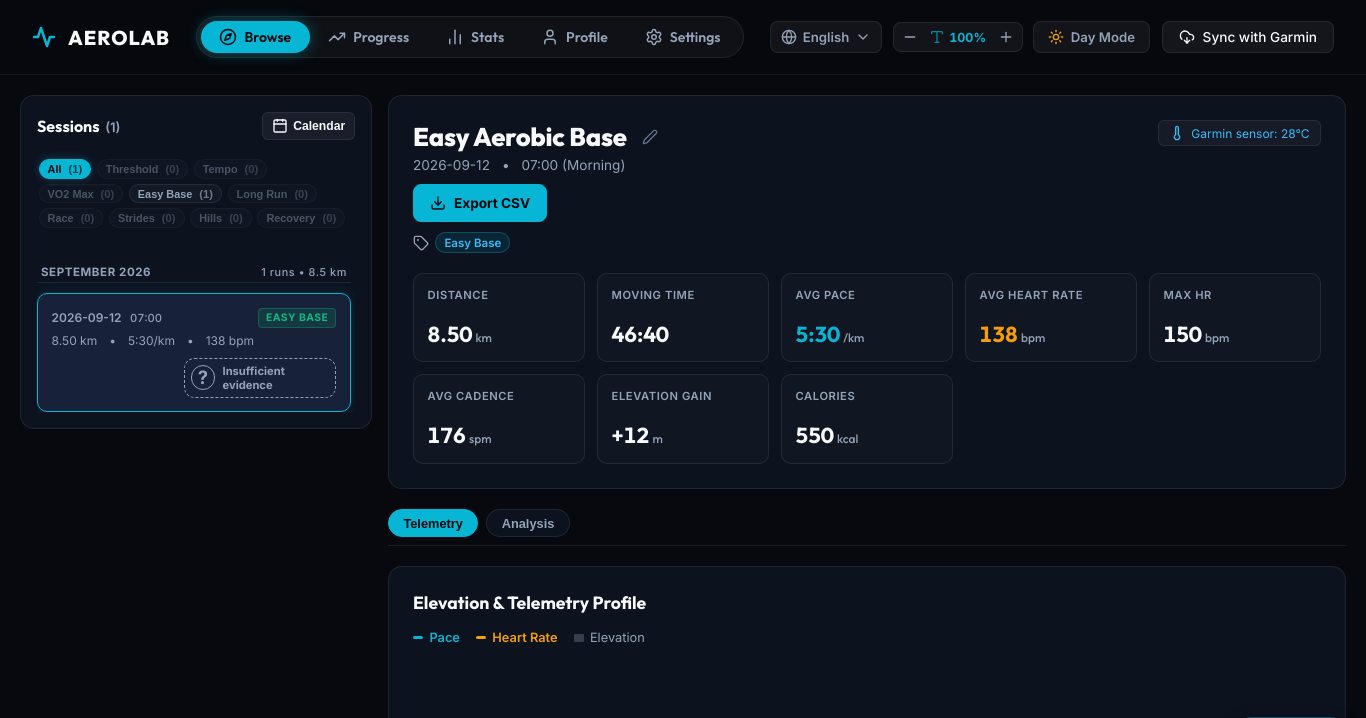
AEROLAB App Full Integration Tests › boots App, fetches activities, and renders main views via navbar tabs
expect the heading "Easy Aerobic Base" is shown: met, box [413,120,627,153]
Click the button with id "tab-progress-btn". click: (369,37)
box: [310,21,428,53]
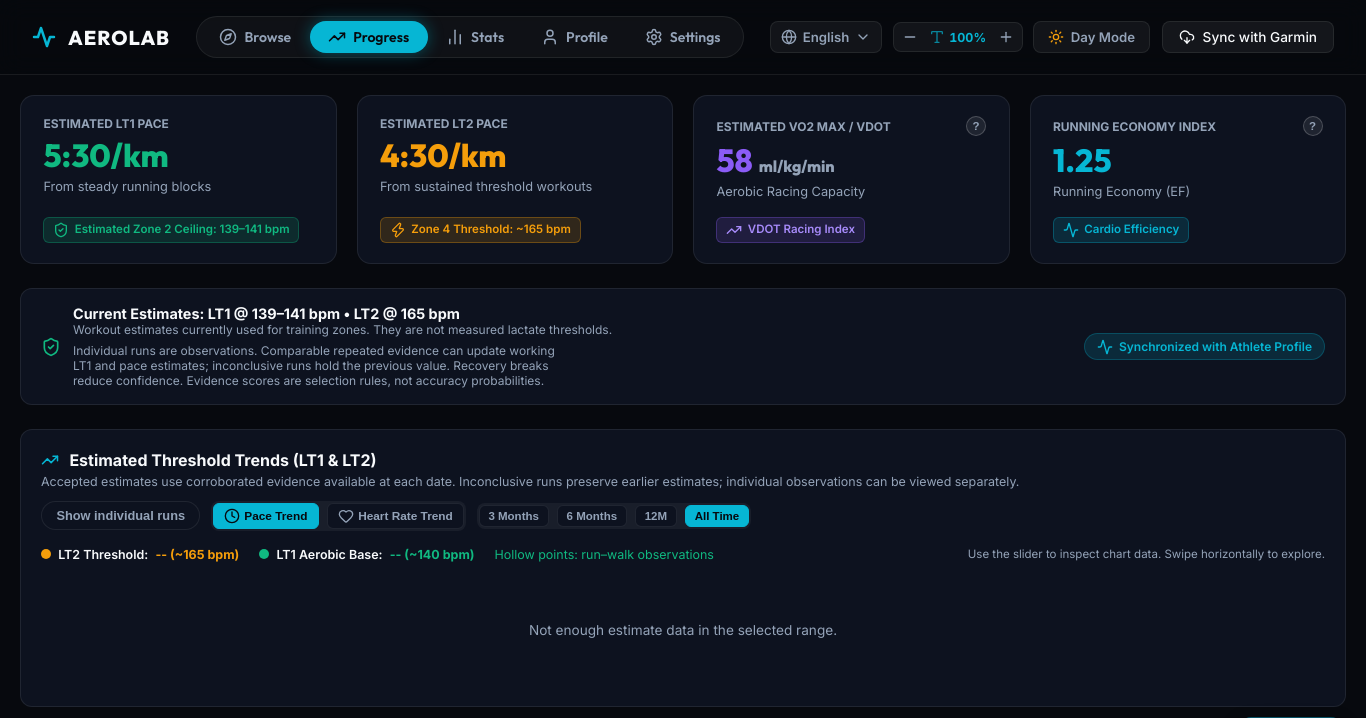
expect the text "Estimated LT1 Pace" is shown: met, box [43,116,169,131]
expect the text "Estimated LT2 Pace" is shown: met, box [380,116,508,131]
Click the button with id "tab-stats-btn". click: (475,37)
box: [428,21,522,53]
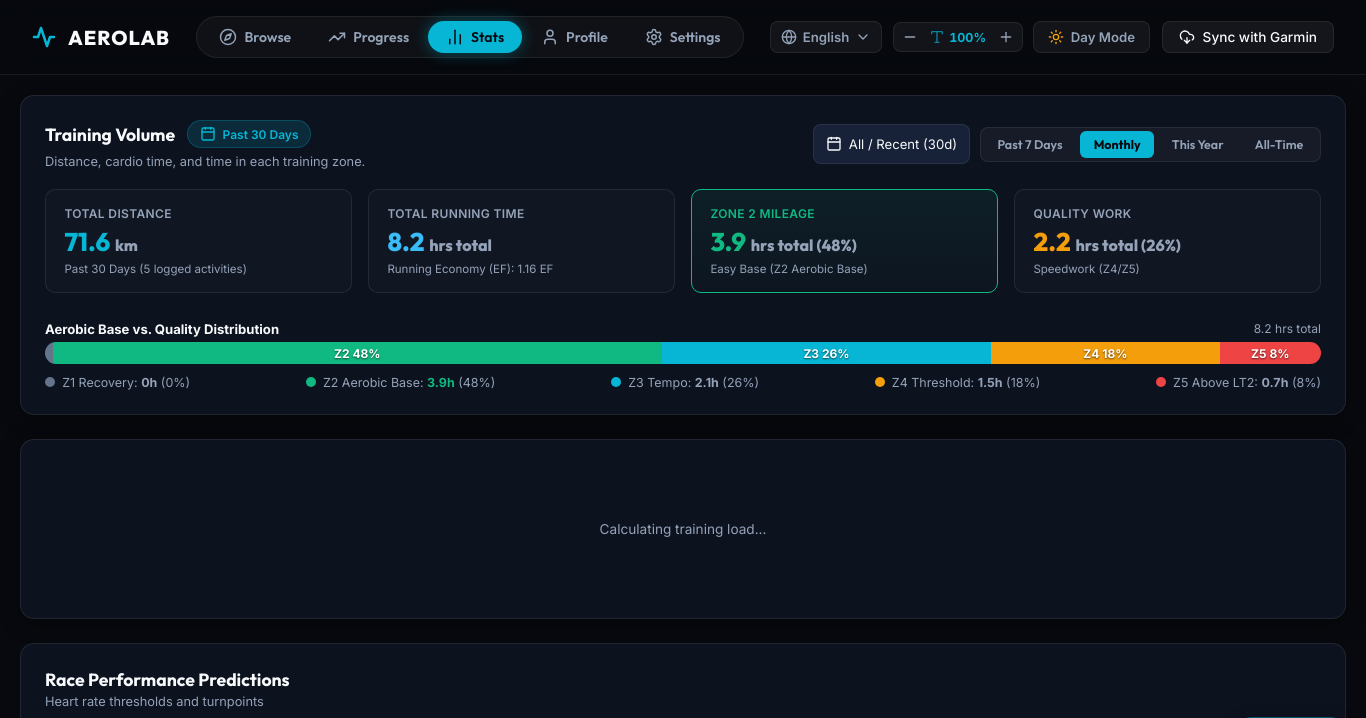
expect the text "Training Volume" is shown: met, box [45,123,175,146]
expect the element with class "benchmarks-grid" is gone: met
Click the button with id "tab-profile-btn". click: (574,37)
box: [522,21,626,53]
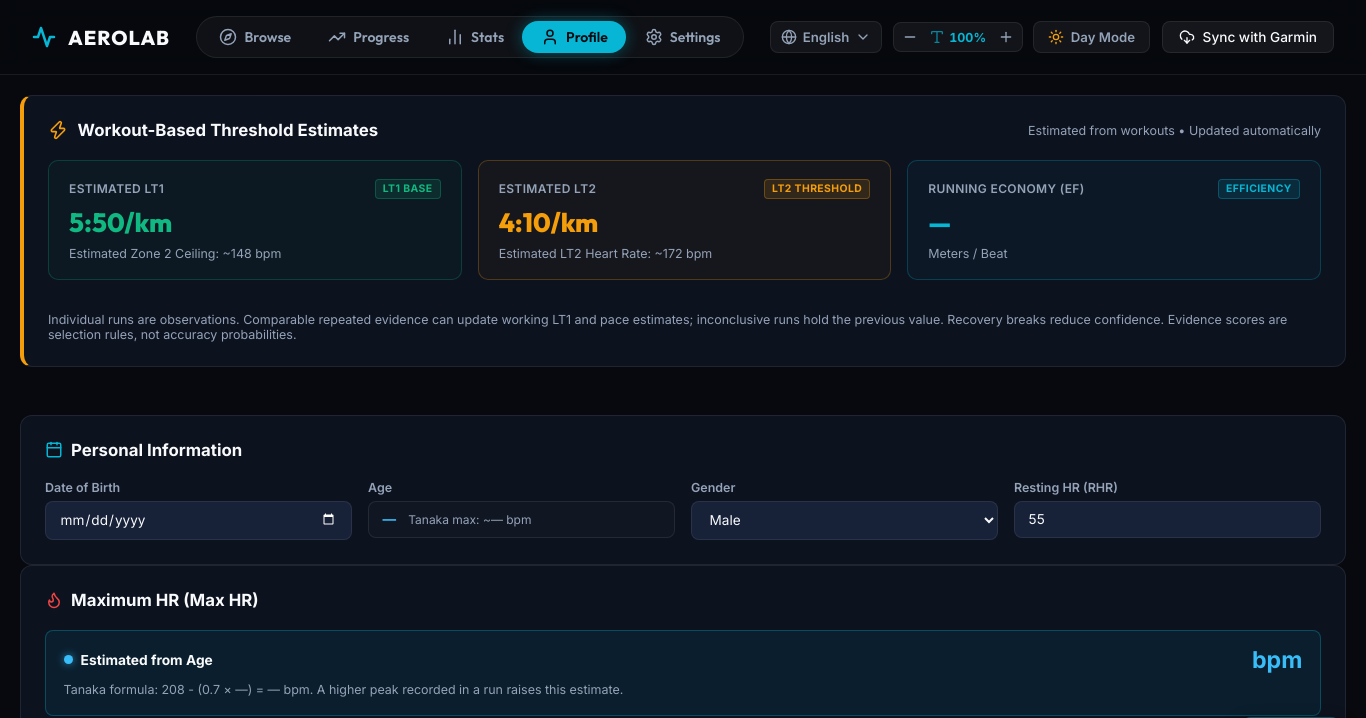
expect the number field showing "55" is shown: met, box [1014,501,1321,538]
expect the heading "Workout-Based Threshold Estimates" is shown: met, box [78,120,378,140]
Click the button with id "tab-browse-btn". click: (255,37)
box: [201,21,310,53]
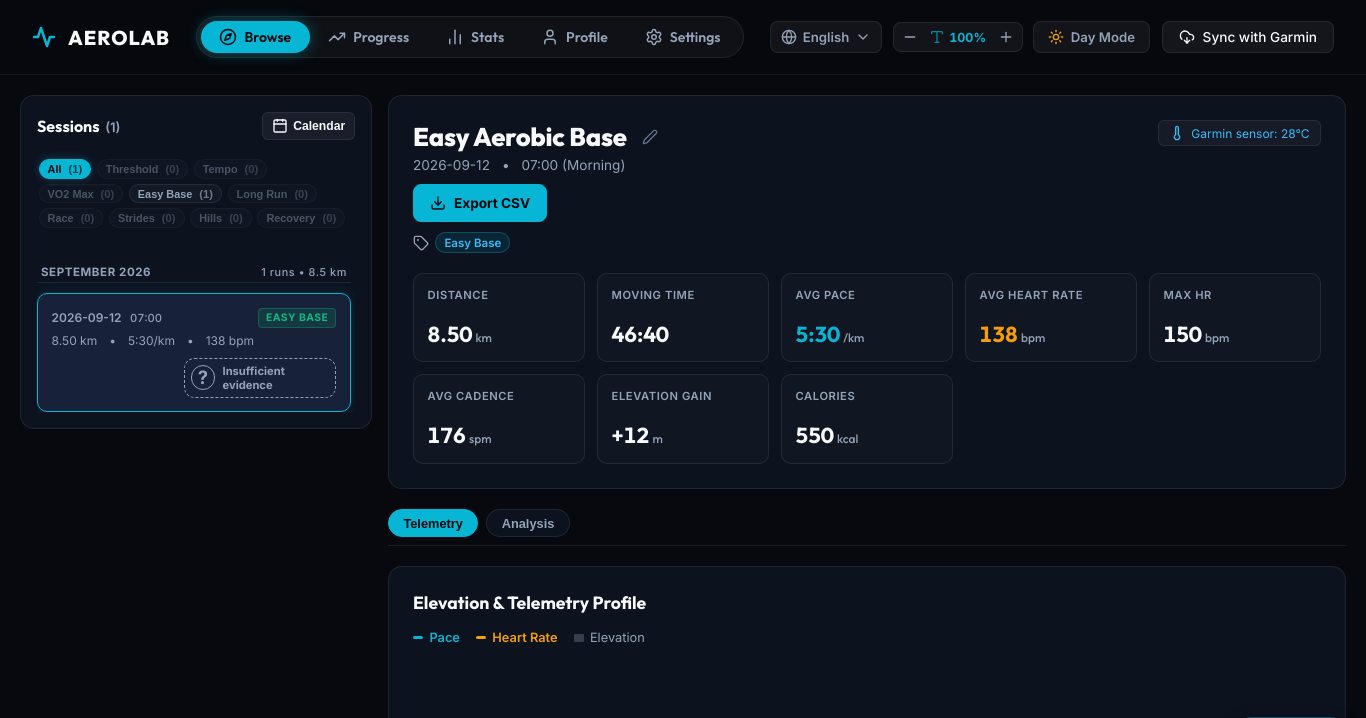
expect the heading "Easy Aerobic Base" is shown: met, box [413,120,627,153]
